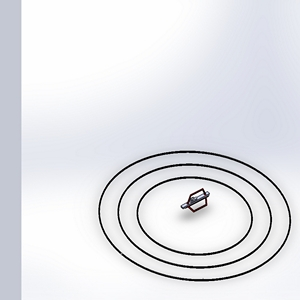circle: (92, 147, 297, 290)
submarine: (173, 187, 220, 223)
